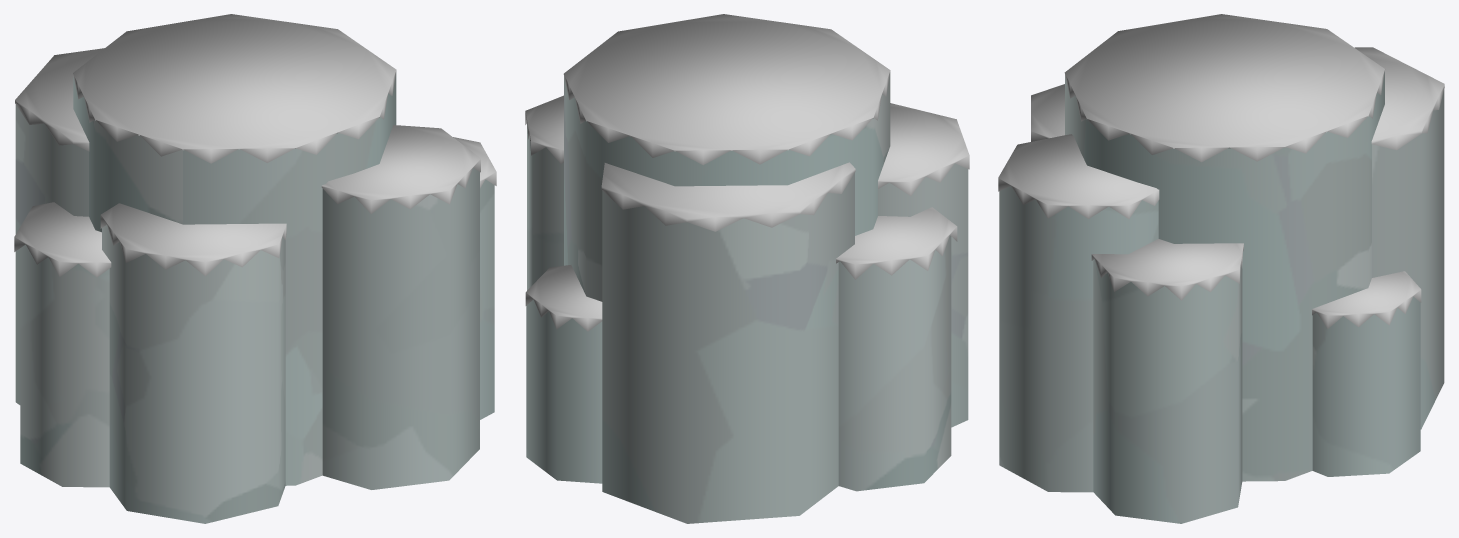
Rendered from terrain.fbx.
The picture shows the model from 3 angles, left to right: view 1: azimuth 30°, elevation 25°; view 2: azimuth 150°, elevation 25°; view 3: azimuth 270°, elevation 25°; orthographic projection.
Parts seen in each view (by area): view 1: Cylinder; view 2: Cylinder; view 3: Cylinder.
Part boxes in pixels (x1,y1,x2,y2): Cylinder: (14, 14, 496, 523); Cylinder: (525, 14, 969, 523); Cylinder: (998, 14, 1444, 523).
Bounding box in the file's own units: 1173 × 876 × 1060.
